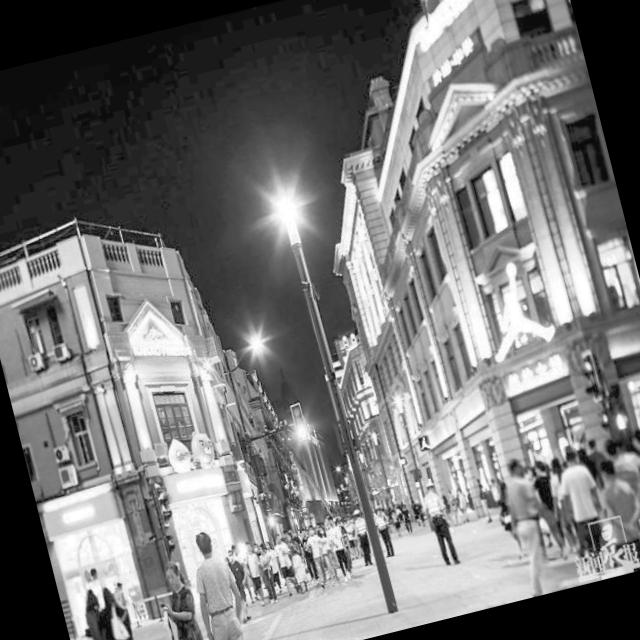Light: (240, 150, 430, 624), (228, 312, 292, 375)
